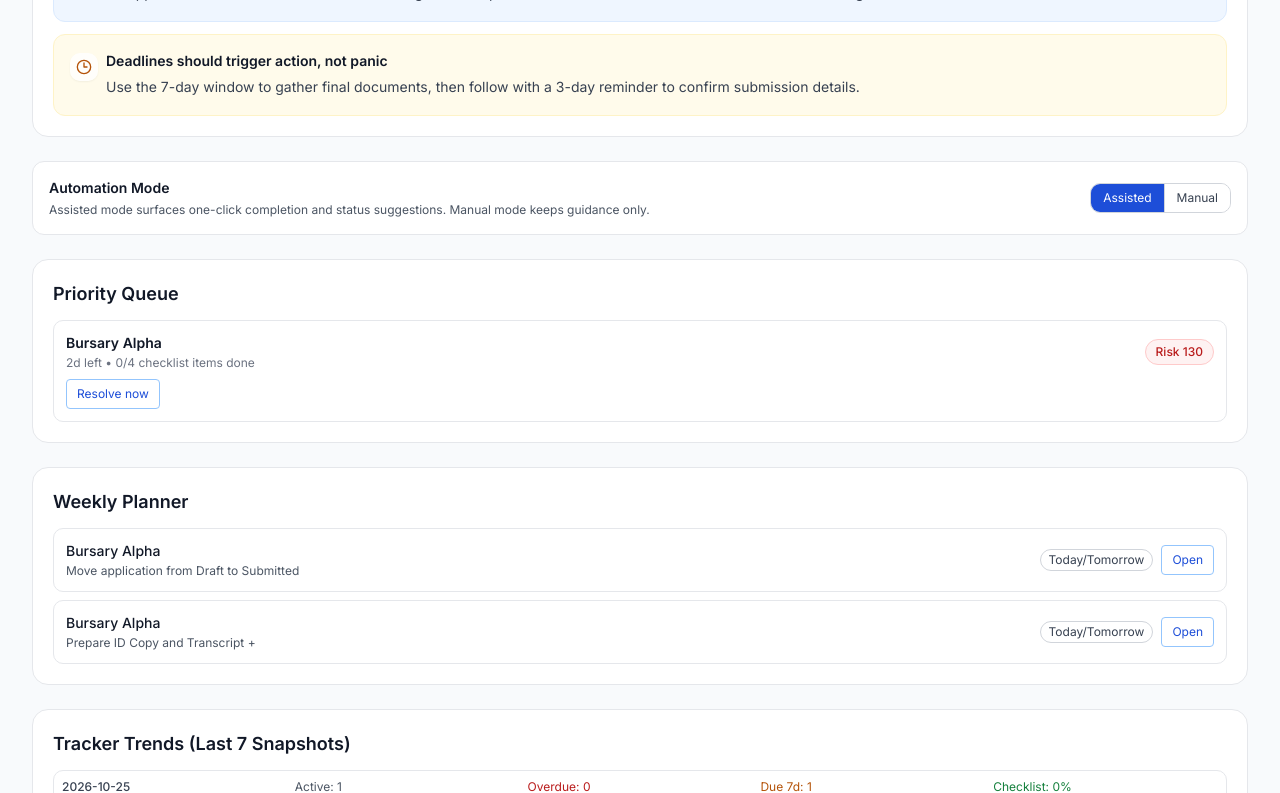
it: ApplicationTracker phase 2.5 interactions › focuses a risky application when resolve now is clicked
(page scrolled)
Click the button "Resolve now": (113, 394) top-left (66, 378), bottom-right (160, 408)
(page scrolled)
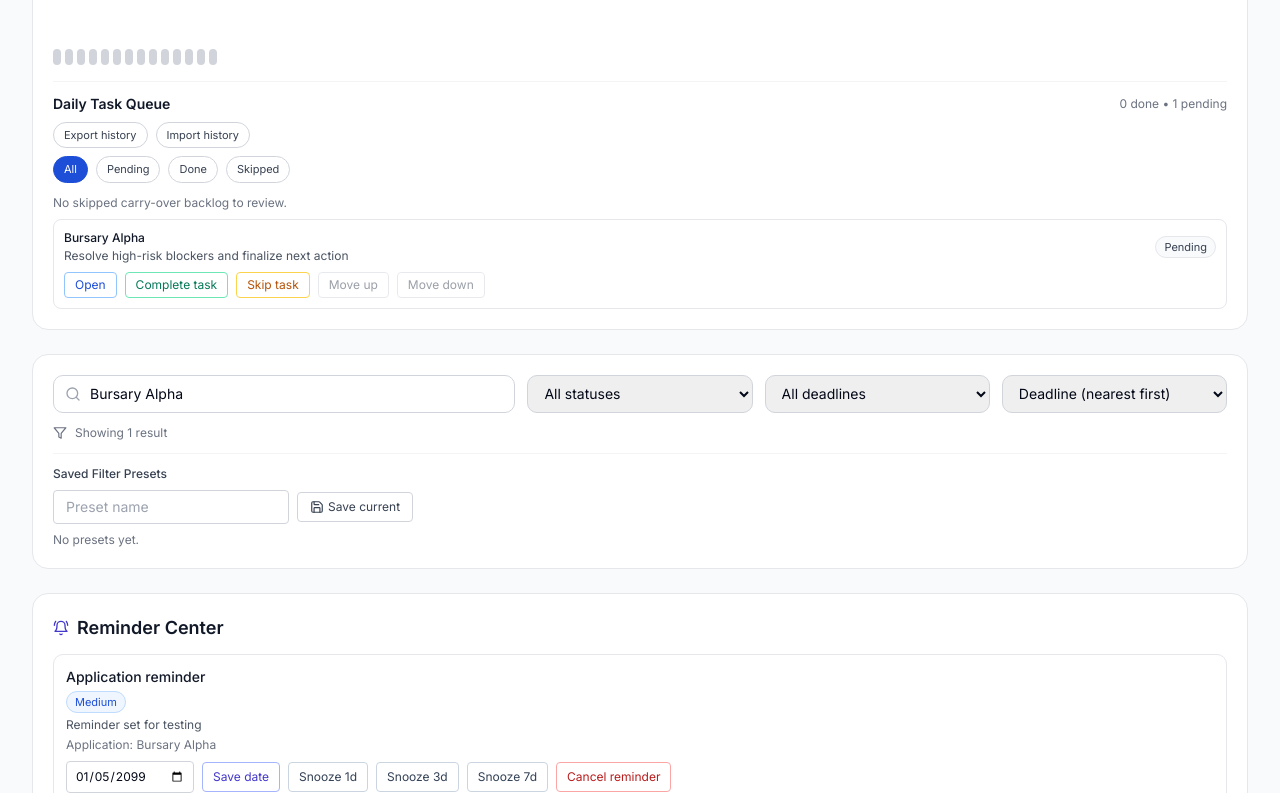
Result: the field named "Search tracked applications" holds "Bursary Alpha" at top-left (53, 374), bottom-right (515, 412)
